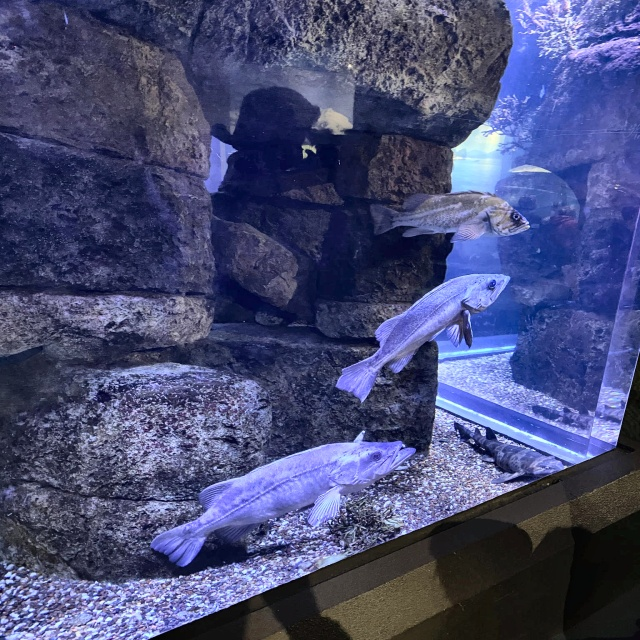fish: (151, 442, 415, 567), (335, 274, 508, 404), (370, 190, 529, 242), (453, 421, 566, 482)
